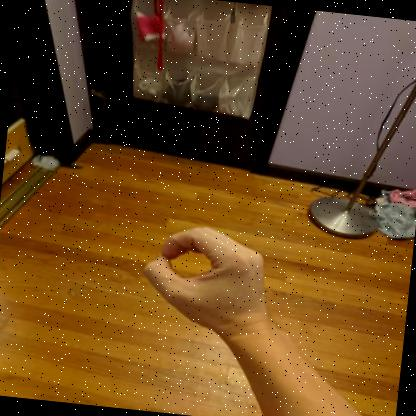O: (142, 226, 270, 338)
